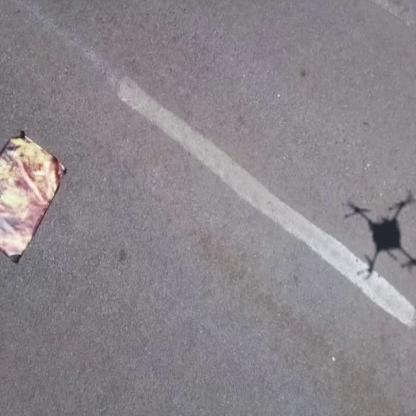fire-poster: (0, 128, 68, 264)
